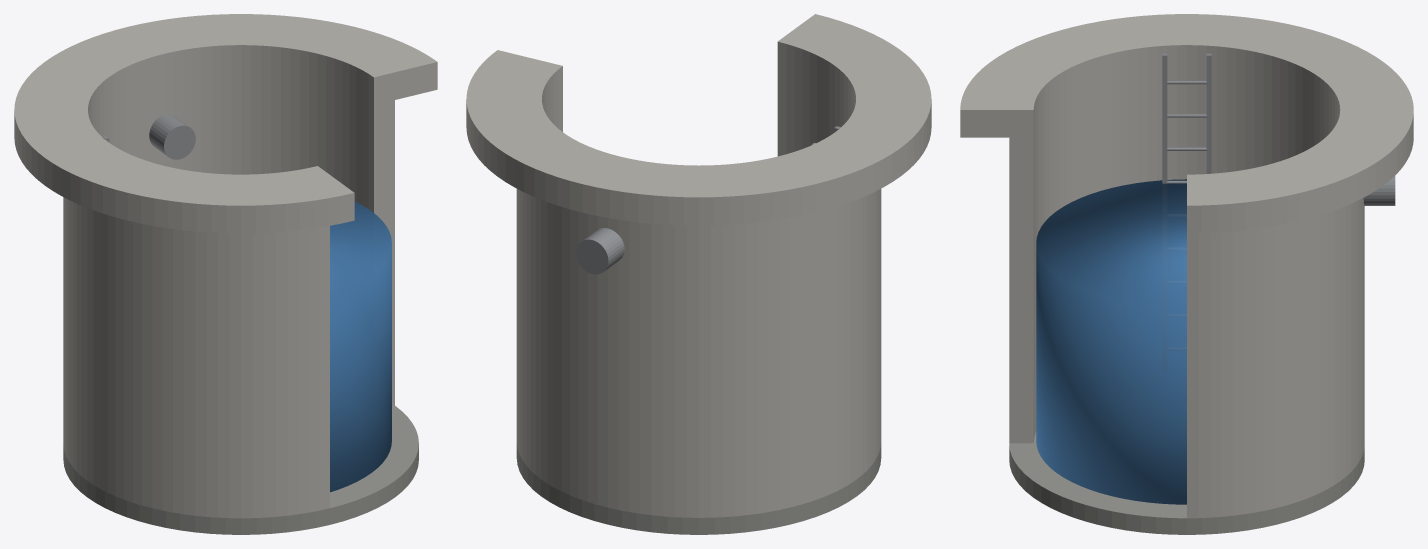
File: wet-well.glb
3 renders of one model, left to right at view 1: azimuth 30°, elevation 25°; view 2: azimuth 150°, elevation 25°; view 3: azimuth 270°, elevation 25°, orthographic. The views are drawn at different scales.
Visible parts, largest first — view 1: Wall, Collar, Fluid, Floor, Inlet; view 2: Wall, Collar, Floor, Inlet; view 3: Wall, Fluid, Collar, Floor, RailA, RailB, Inlet.
Part boxes in pixels (box(x1,y1,x2,y2)): Wall: box(63, 34, 394, 518); Collar: box(14, 14, 437, 233); Fluid: box(330, 201, 391, 492); Floor: box(63, 405, 418, 534); Inlet: box(149, 114, 195, 159); Wall: box(516, 33, 881, 517); Collar: box(466, 14, 931, 225); Floor: box(516, 442, 881, 534); Inlet: box(576, 228, 624, 274); Wall: box(1009, 35, 1364, 518); Fluid: box(1036, 179, 1186, 504); Collar: box(960, 14, 1413, 233); Floor: box(1009, 432, 1364, 534); RailA: box(1162, 53, 1167, 183); RailB: box(1206, 53, 1211, 173); Inlet: box(1363, 176, 1395, 205).
Size of the model in its own units: 3.7 by 3.15 by 3.7.
